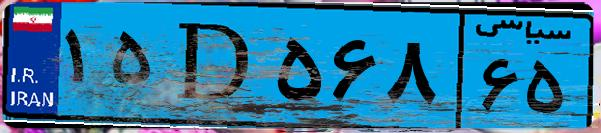1: (57, 26, 110, 100)
5: (270, 28, 330, 110), (525, 38, 570, 115), (110, 28, 158, 98)
6: (330, 28, 385, 110), (475, 38, 525, 113)
8: (385, 28, 445, 110)
D: (158, 12, 270, 120)
